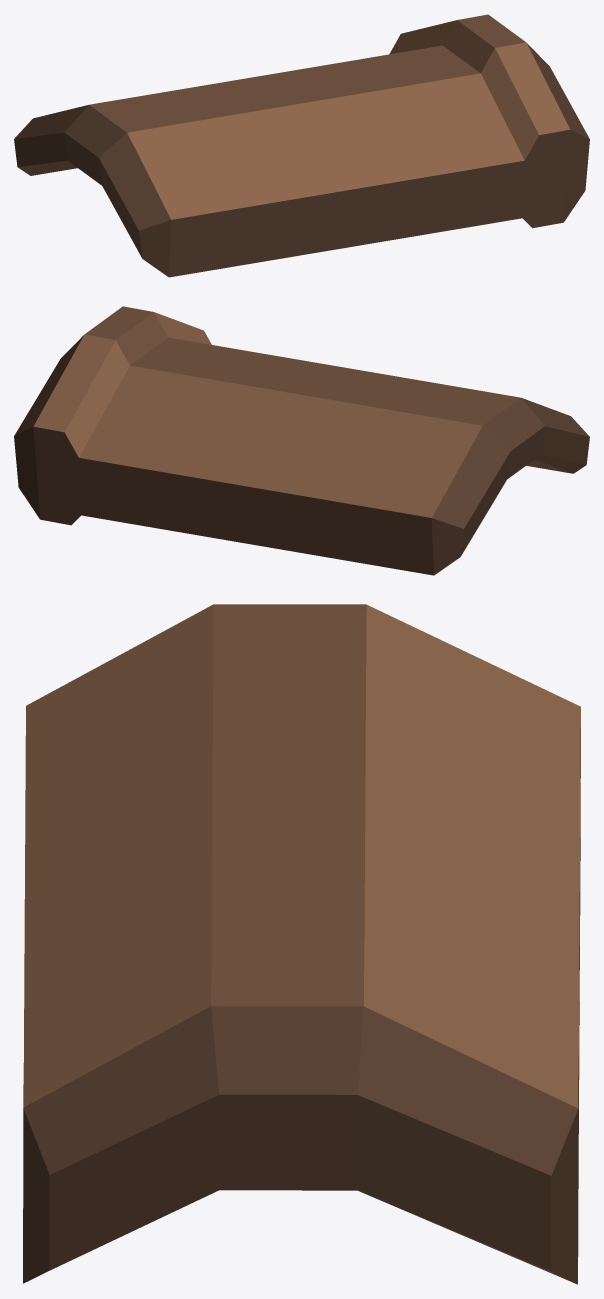
The model's file is SM_Bld_Roof_Manor_Trim_Cap_01.fbx.
3 renders of one model, top to bottom at view 1: azimuth 30°, elevation 25°; view 2: azimuth 150°, elevation 25°; view 3: azimuth 270°, elevation 25°, orthographic. The views are drawn at different scales.
Visible parts, largest first — view 1: SM_Bld_Roof_Manor_Trim_Cap_01; view 2: SM_Bld_Roof_Manor_Trim_Cap_01; view 3: SM_Bld_Roof_Manor_Trim_Cap_01.
Boxes of the visible parts, left/top/right/bottom form: SM_Bld_Roof_Manor_Trim_Cap_01: left=14, top=14, right=589, bottom=277; SM_Bld_Roof_Manor_Trim_Cap_01: left=14, top=306, right=589, bottom=575; SM_Bld_Roof_Manor_Trim_Cap_01: left=23, top=604, right=580, bottom=1284.
Bounding box in the file's own units: 50.05 × 15.87 × 26.71.
